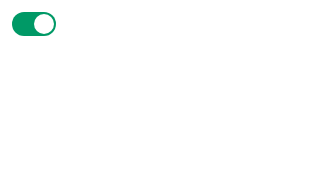
Scenario: EditionFlagSwitch(reader_full_text) › keeps the optimistic value while a change is pending
The image size is (332, 172).
Later steps or results of the test are not shown.
Click the switch named "Full text for NABRE" at [34, 24], box x1=12 y1=12 x2=56 y2=36
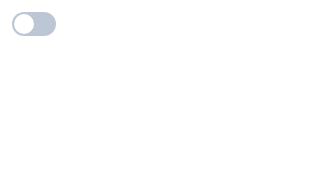
Result: the switch named "Full text for NABRE" is disabled at x1=12 y1=12 x2=56 y2=36
